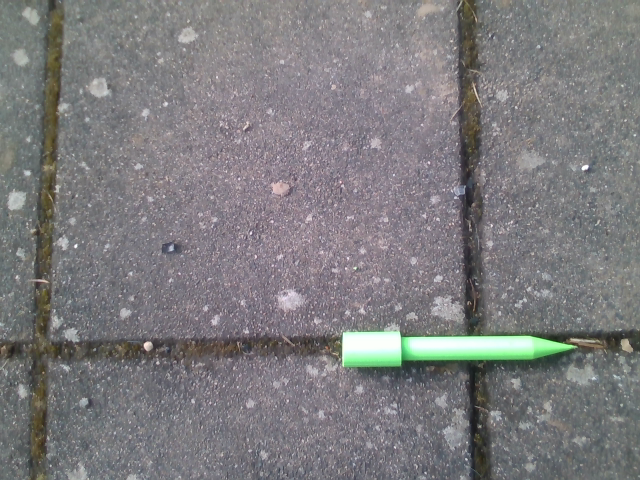Probe: (337, 323, 586, 375)
